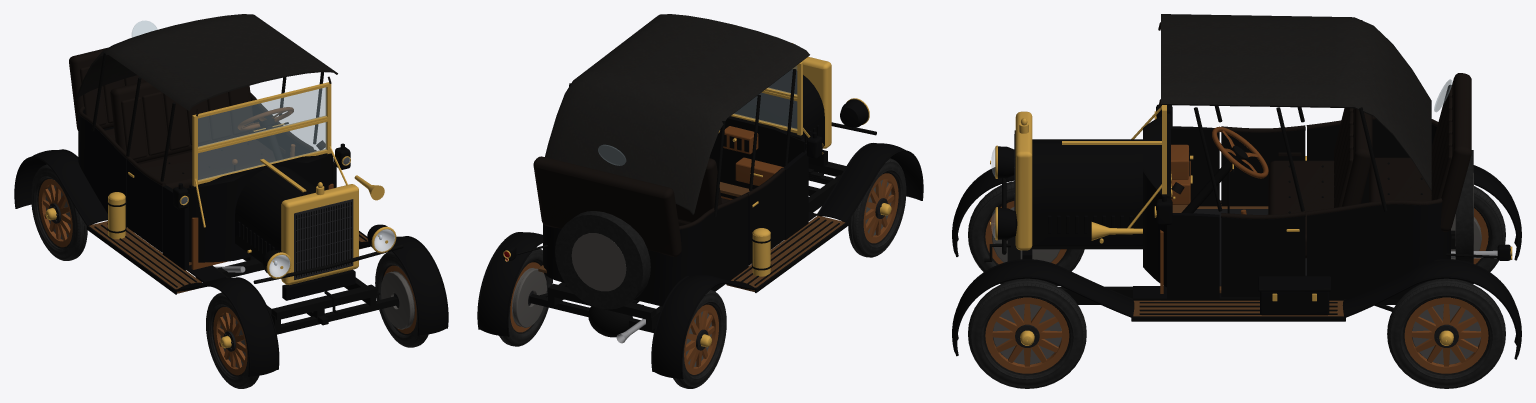
The model's file is runabout_t_lod1.glb.
3 views of the same model, side by side, from view 1: azimuth 30°, elevation 25°; view 2: azimuth 150°, elevation 25°; view 3: azimuth 270°, elevation 25° (orthographic). The views are drawn at different scales.
Visible parts, largest first — view 1: runabout_t, top, windscreen_upper, hood_R, wheel_RR, wheel_FR, wheel_FL, door_R, seat_rear, steering_wheel, door_L, hood_L; view 2: runabout_t, top, seat_rear, spare_wheel, wheel_FR, wheel_RR, wheel_RL, door_R, hood_R, dash_glovebox, windscreen_upper; view 3: runabout_t, top, hood_L, wheel_RL, wheel_FL, seat_rear, door_L, door_R, wheel_FR, wheel_RR, spare_wheel, steering_wheel (+1 smaller).
Part boxes in pixels (<box>): runabout_t: <box>14,81,448,376</box>; top: <box>75,14,337,181</box>; windscreen_upper: <box>196,83,327,150</box>; hood_R: <box>235,167,307,262</box>; wheel_RR: <box>31,164,87,260</box>; wheel_FR: <box>206,292,259,388</box>; wheel_FL: <box>375,251,428,347</box>; door_R: <box>127,156,166,252</box>; seat_rear: <box>69,47,192,164</box>; steering_wheel: <box>237,107,293,130</box>; door_L: <box>274,121,313,158</box>; hood_L: <box>273,165,315,194</box>; runabout_t: <box>477,43,923,379</box>; top: <box>545,14,809,216</box>; seat_rear: <box>533,156,681,256</box>; spare_wheel: <box>555,211,650,309</box>; wheel_FR: <box>848,158,906,257</box>; wheel_RR: <box>673,289,726,388</box>; wheel_RL: <box>499,249,552,346</box>; door_R: <box>746,167,785,265</box>; hood_R: <box>745,69,824,151</box>; dash_glovebox: <box>735,157,783,185</box>; windscreen_upper: <box>764,65,797,98</box>; runabout_t: <box>952,104,1521,359</box>; top: <box>1158,14,1452,211</box>; hood_L: <box>1032,143,1146,246</box>; wheel_RL: <box>1387,278,1505,388</box>; wheel_FL: <box>968,278,1086,388</box>; seat_rear: <box>1369,73,1471,231</box>; door_L: <box>1221,212,1305,297</box>; door_R: <box>1221,125,1305,206</box>; wheel_FR: <box>968,181,1084,283</box>; wheel_RR: <box>1451,186,1505,283</box>; spare_wheel: <box>1455,150,1473,263</box>; steering_wheel: <box>1212,126,1268,178</box>.
Size of the model in its own units: 1.67 by 1.95 by 3.45.
35 materials, 6 textured.
